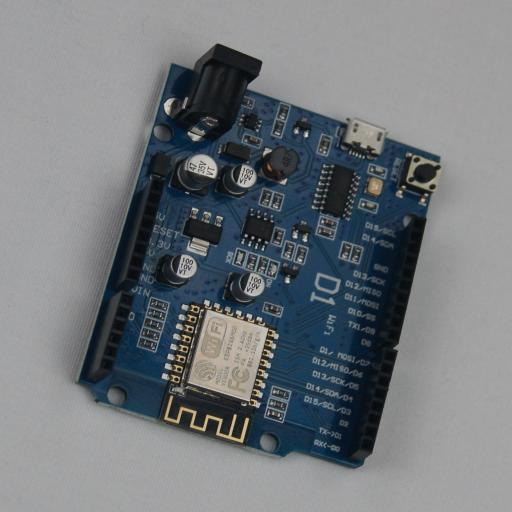Arduino Uno WiFi Shield: (74, 44, 440, 468)
